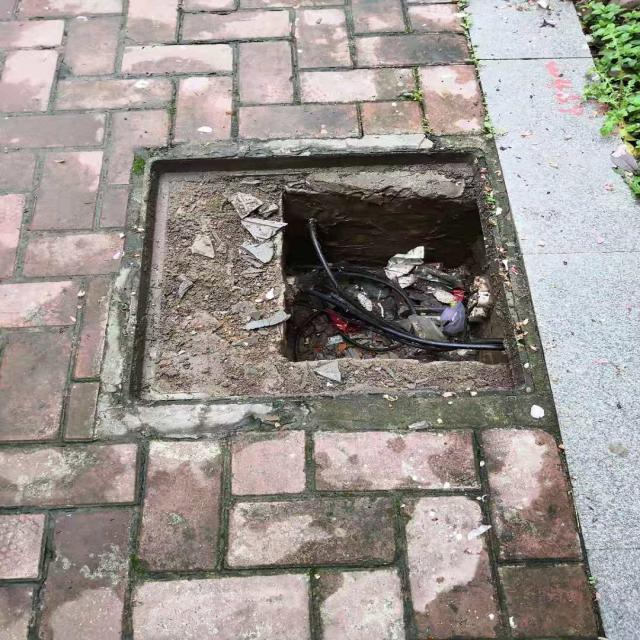Faulty: (118, 144, 542, 403)
